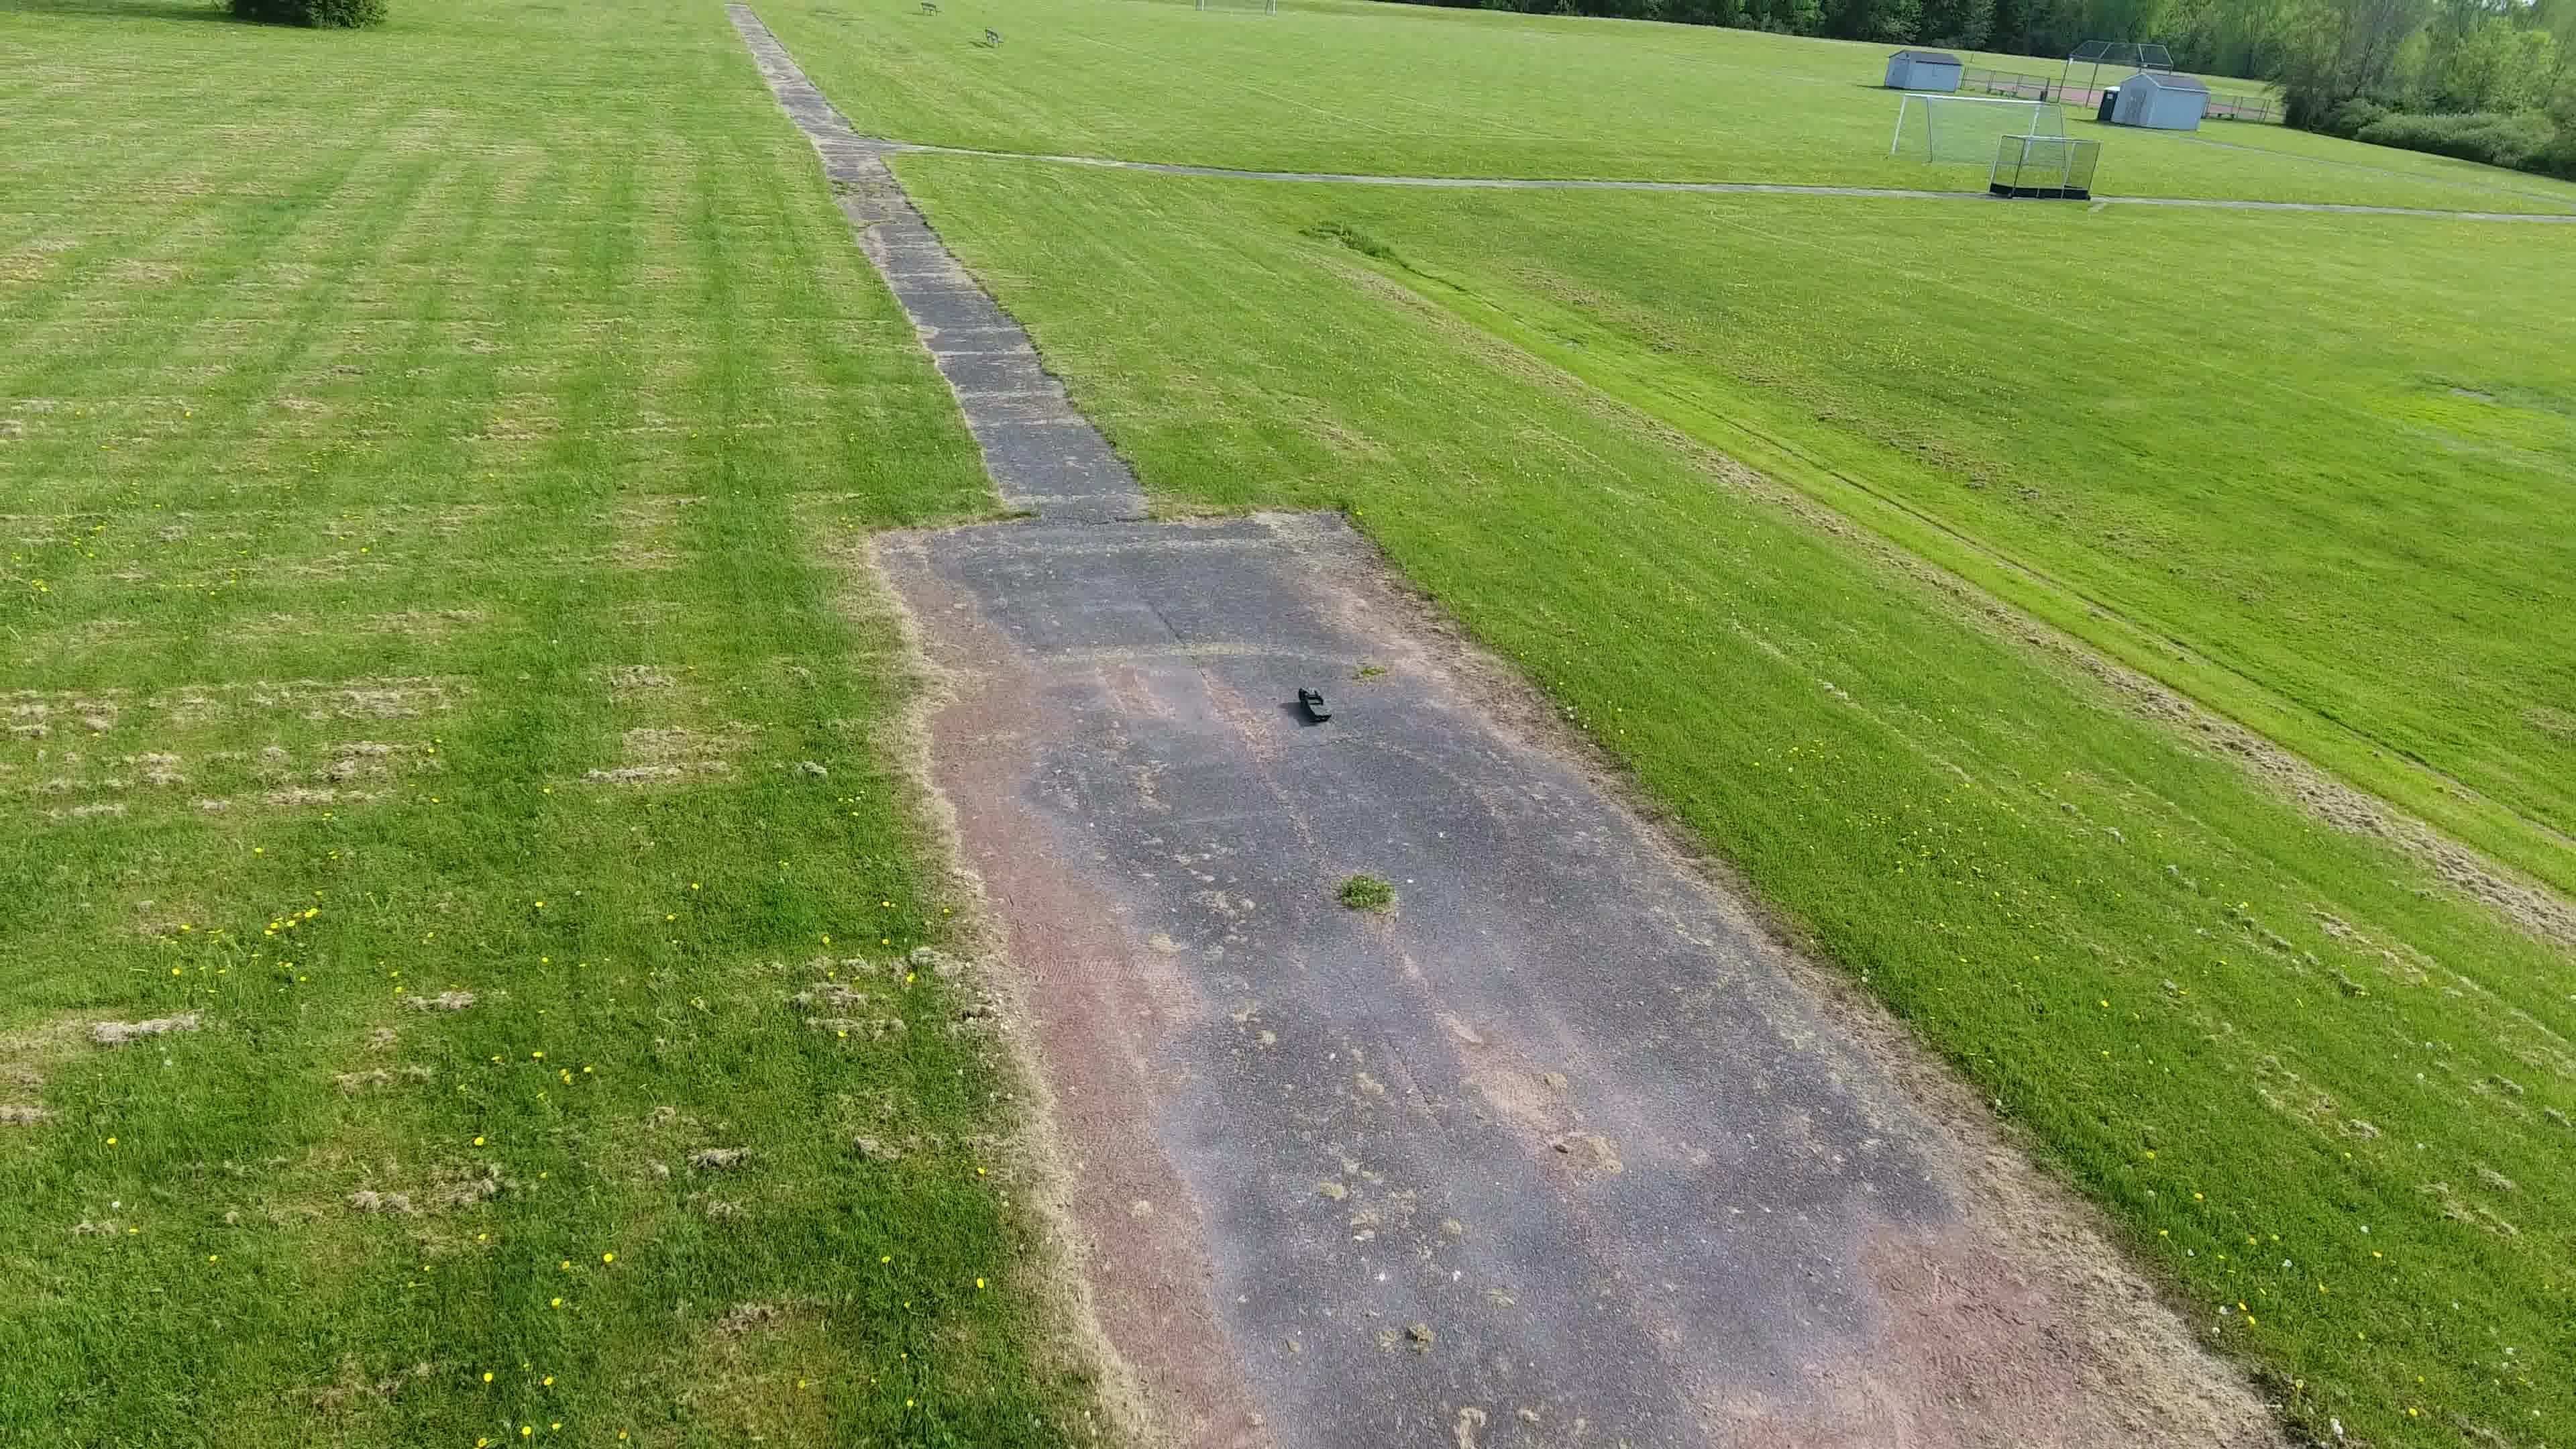transporter9_camo: (1297, 685, 1336, 725)
